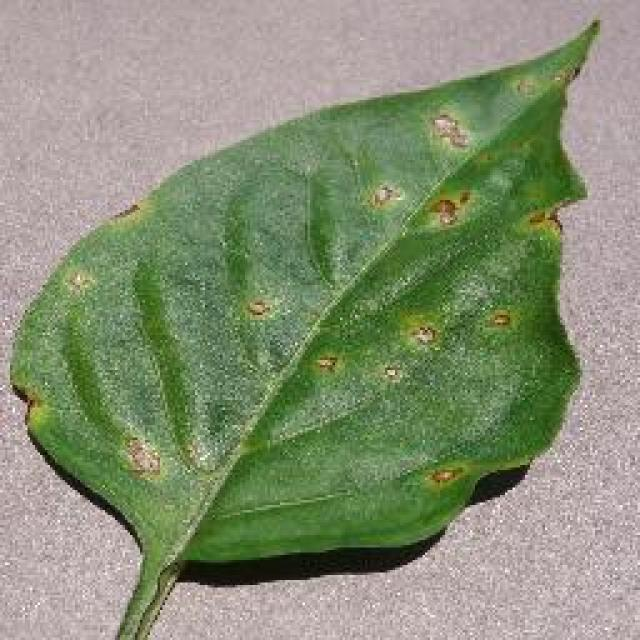Chilli_Bacterial_Spot: (3, 15, 605, 637), (302, 300, 522, 388), (117, 432, 165, 482), (425, 108, 473, 152), (520, 202, 565, 240), (362, 178, 402, 212), (425, 195, 463, 230), (62, 265, 98, 300), (425, 462, 465, 490), (405, 320, 440, 350), (240, 292, 272, 322), (308, 350, 342, 378), (483, 305, 515, 333), (375, 360, 405, 388)
